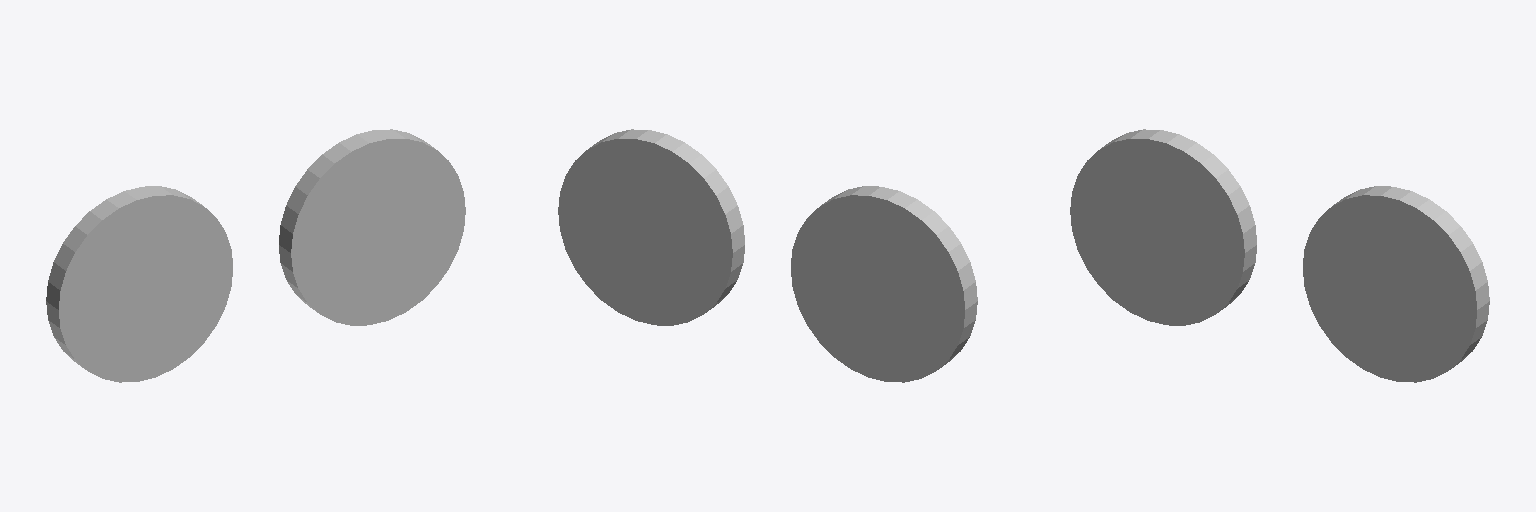
The model's file is eye1.obj.
3 renders of one model, left to right at view 1: azimuth 30°, elevation 25°; view 2: azimuth 150°, elevation 25°; view 3: azimuth 330°, elevation 25°, orthographic.
Parts seen in each view (by area): view 1: polySurface2 pCylinder13, pCylinder13 polySurface5; view 2: polySurface2 pCylinder13, pCylinder13 polySurface5; view 3: polySurface2 pCylinder13, pCylinder13 polySurface5.
Part boxes in pixels (left/top/right/bottom): polySurface2 pCylinder13: left=279, top=129, right=465, bottom=325; pCylinder13 polySurface5: left=46, top=186, right=232, bottom=382; polySurface2 pCylinder13: left=558, top=129, right=744, bottom=325; pCylinder13 polySurface5: left=791, top=186, right=977, bottom=382; polySurface2 pCylinder13: left=1303, top=186, right=1489, bottom=382; pCylinder13 polySurface5: left=1070, top=129, right=1256, bottom=325.
Size of the model in its own units: 1.4 by 0.5989 by 0.0748.